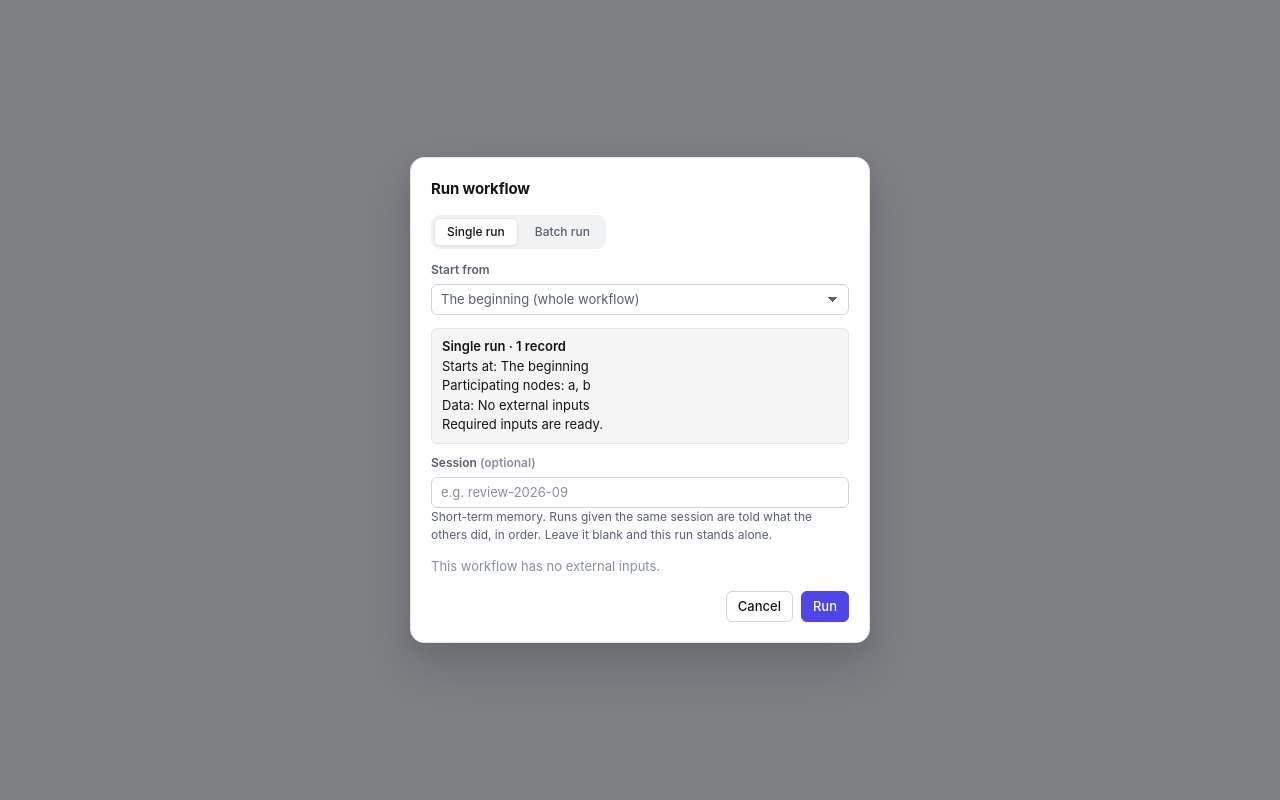
Test: batch data source › still asks for a file when there is no source node
Click the button "Batch run" at (562, 232), box [522,218,603,246]
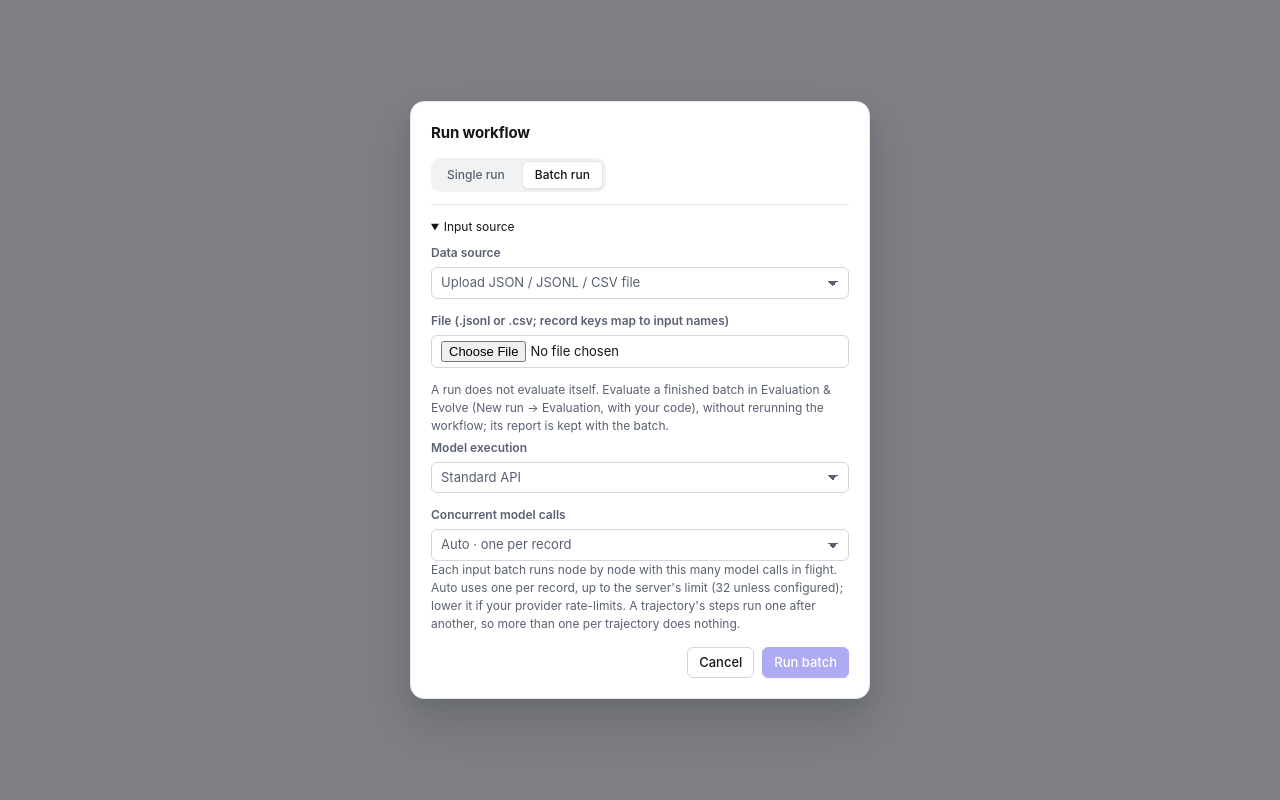
Now the dropdown labelled "Data source" shows "Upload JSON / JSONL / CSV file", box [431,267,849,299]
